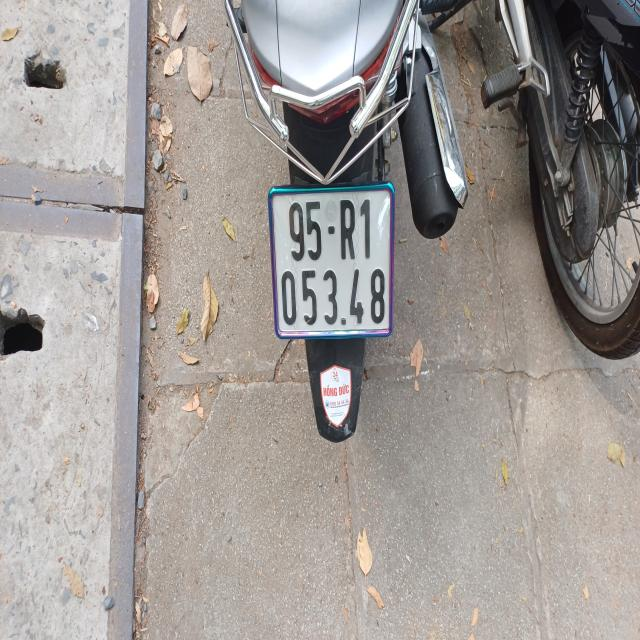0: (281, 271, 297, 326)
1: (361, 196, 371, 262)
3: (322, 270, 340, 329)
4: (348, 268, 366, 324)
5: (304, 198, 323, 260), (301, 269, 316, 324)
8: (370, 272, 386, 326)
9: (288, 202, 304, 262)
R: (339, 196, 358, 258)
